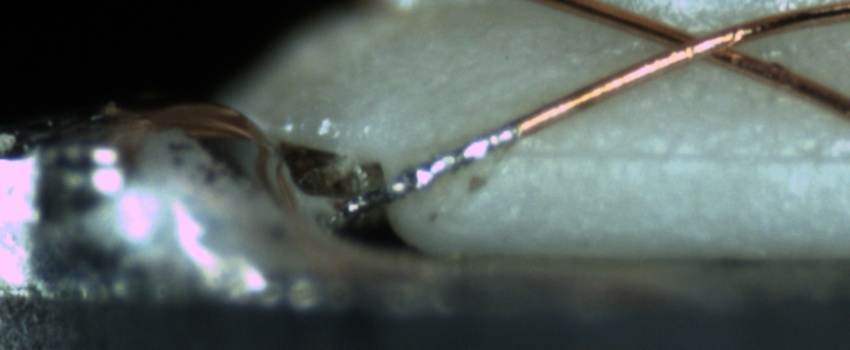CL: (637, 16, 760, 71)
DL: (496, 125, 850, 185)
TS: (347, 123, 518, 216)
